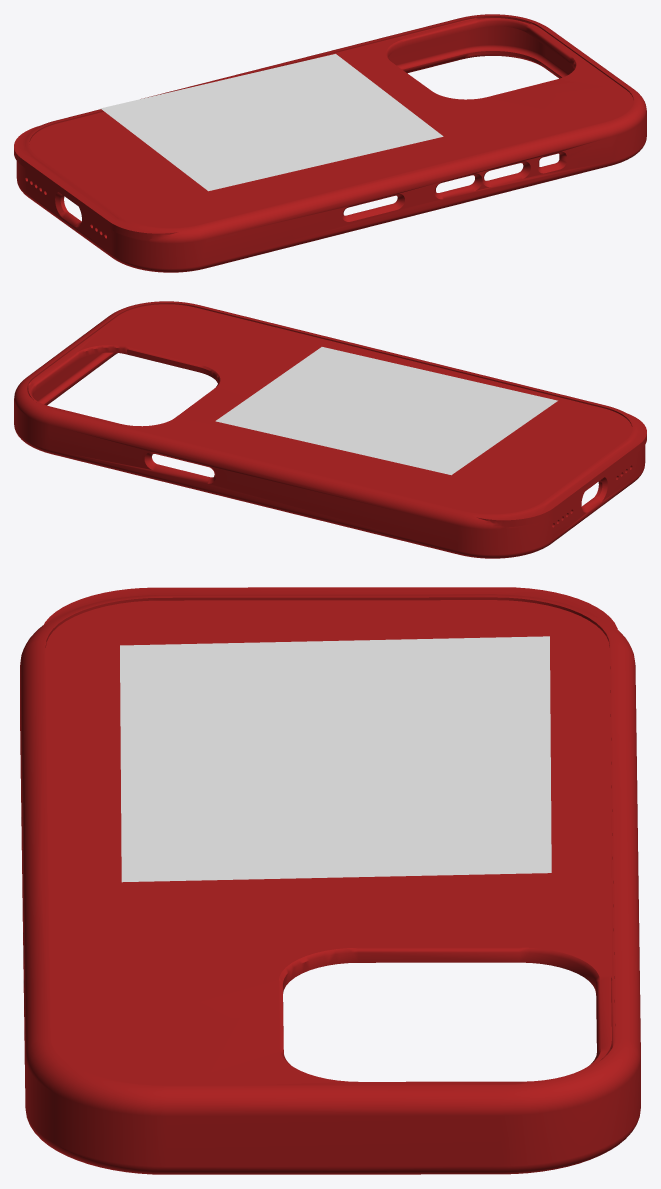
The model's file is phonecase2.glb.
3 renders of one model, top to bottom at view 1: azimuth 30°, elevation 25°; view 2: azimuth 150°, elevation 25°; view 3: azimuth 270°, elevation 25°, orthographic. The views are drawn at different scales.
Parts seen in each view (by area): view 1: Object_2, PrintPlane; view 2: Object_2, PrintPlane; view 3: Object_2, PrintPlane.
Part boxes in pixels (x1,y1,x2,y2): Object_2: [14, 14, 646, 272]; PrintPlane: [100, 54, 443, 191]; Object_2: [14, 301, 646, 558]; PrintPlane: [215, 347, 557, 475]; Object_2: [20, 587, 640, 1174]; PrintPlane: [120, 636, 551, 882].
Bounding box in the file's own units: 153 × 16.45 × 77.29.
